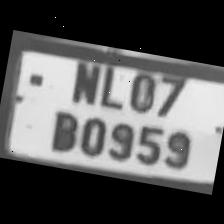0: (121, 64, 160, 114), (74, 110, 110, 158)
5: (130, 118, 166, 168)
7: (151, 62, 190, 119)
9: (158, 122, 196, 172), (103, 114, 138, 164)
B: (42, 104, 82, 154)
L: (94, 50, 131, 110)
N: (66, 50, 104, 104)
